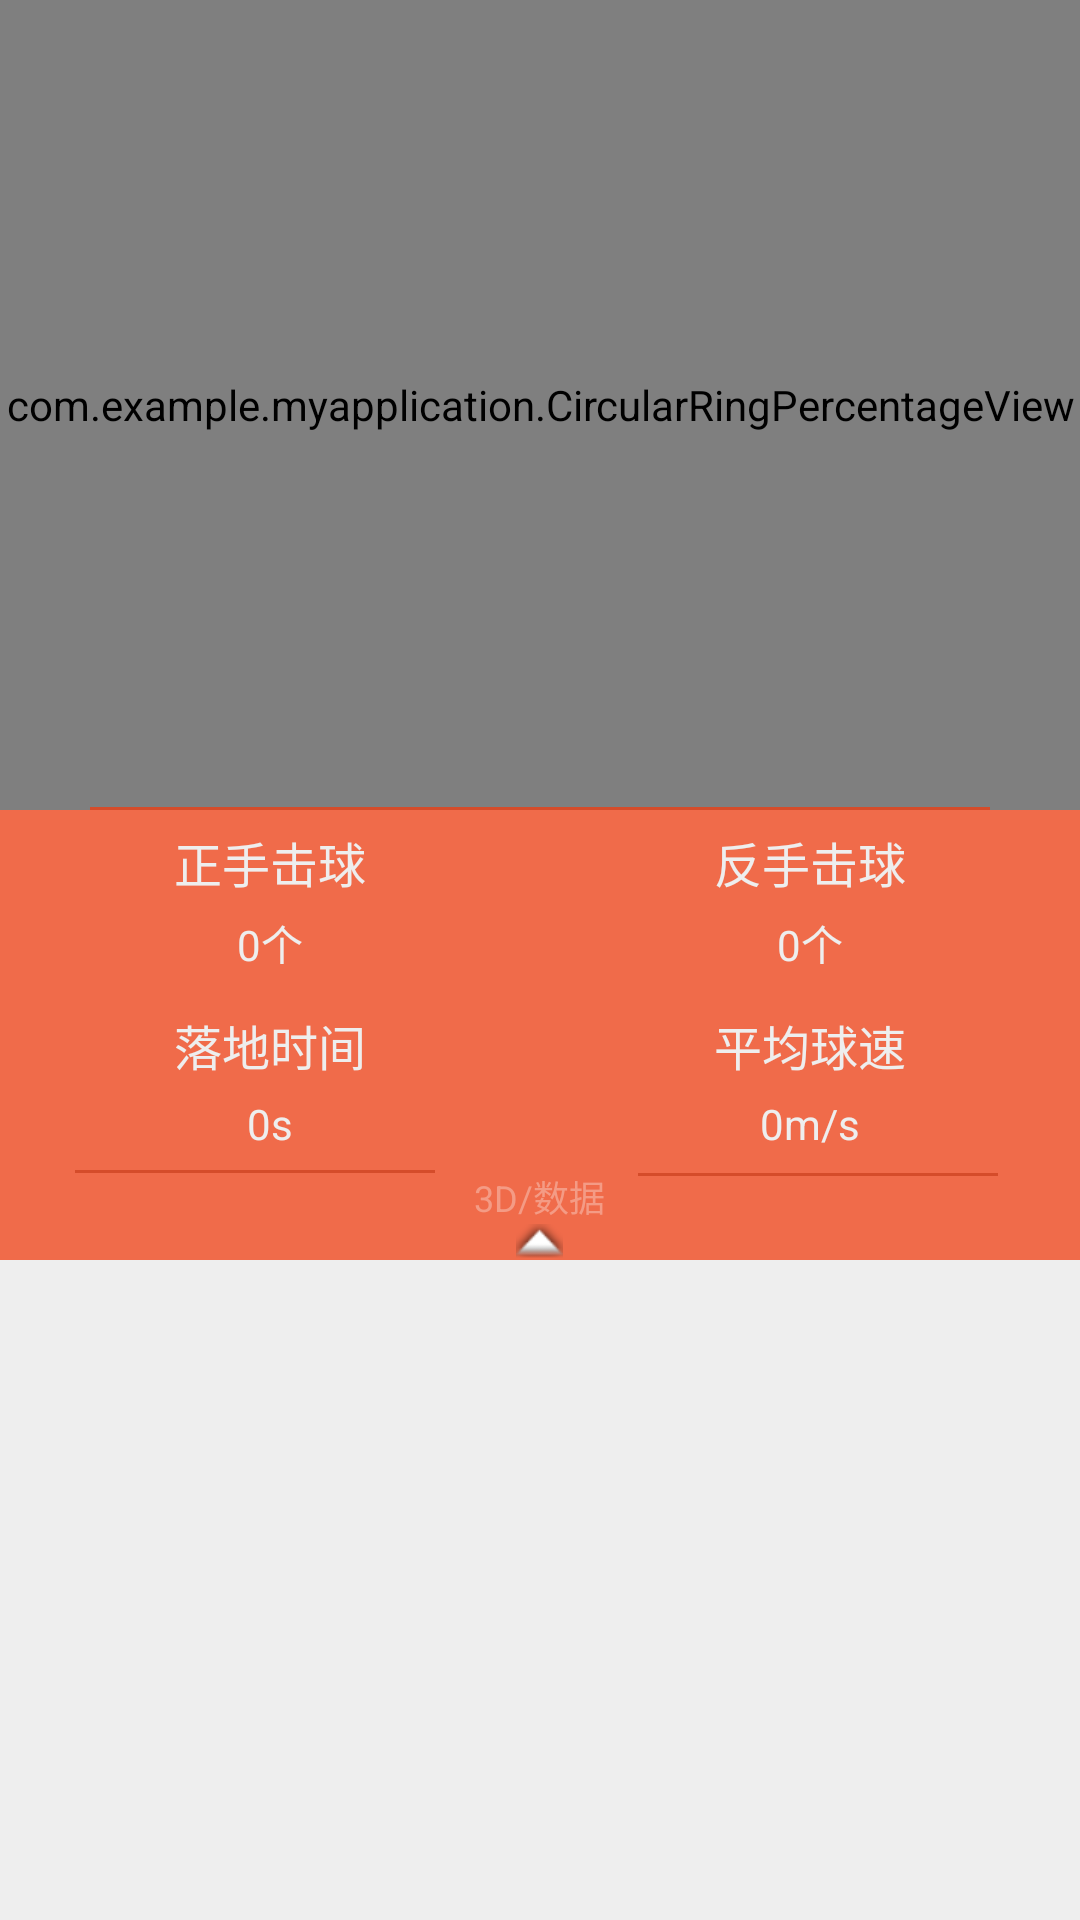

Screen size 1080 x 1920. Icon name, then its center in pixels as point (x, y):
arrow up float: point (539, 1241)
